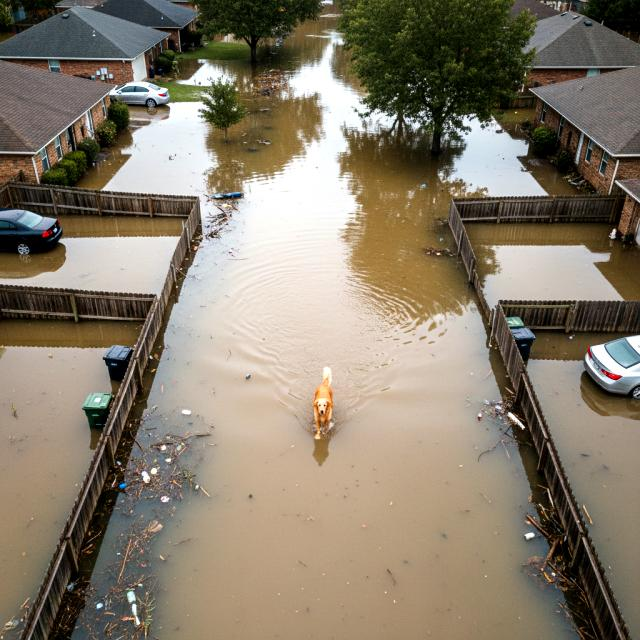dog: (302, 351, 349, 452)
